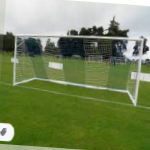goals: (10, 33, 148, 110)
